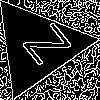Z: (13, 21, 73, 74)
